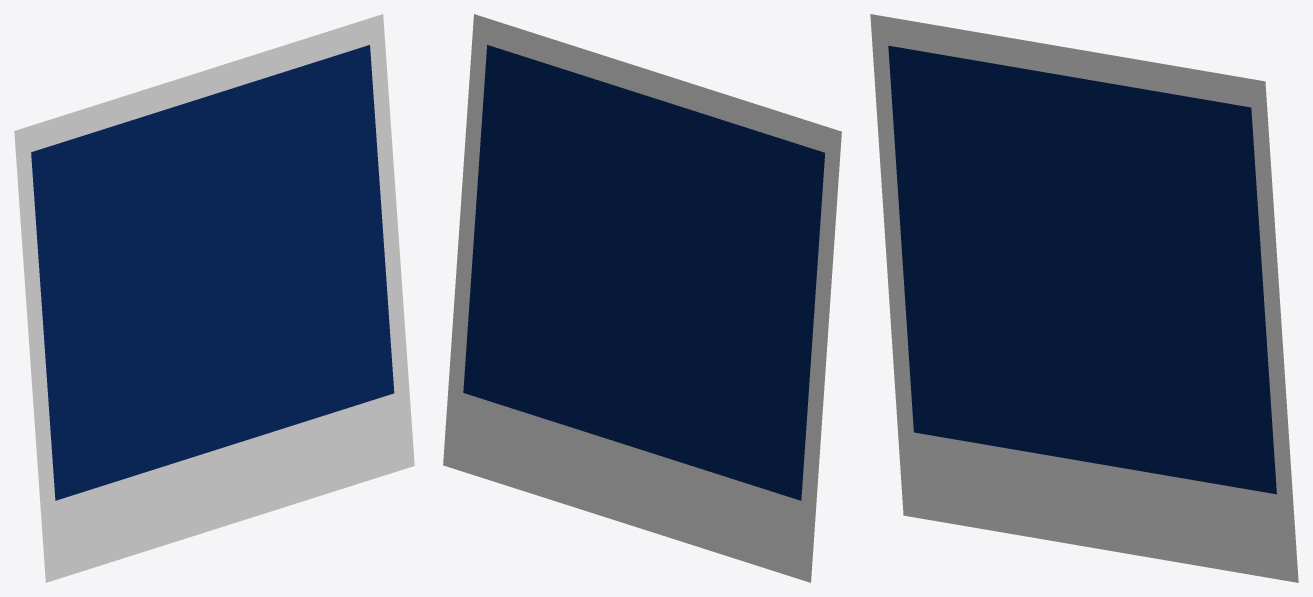
The model's file is Polaroid.fbx.
3 renders of one model, left to right at view 1: azimuth 30°, elevation 25°; view 2: azimuth 150°, elevation 25°; view 3: azimuth 330°, elevation 25°, orthographic. The views are drawn at different scales.
Visible parts, largest first — view 1: Photo_polaroid_003; view 2: Photo_polaroid_003; view 3: Photo_polaroid_003.
Part boxes in pixels (x1,y1,x2,y2): Photo_polaroid_003: (14,14,414,582); Photo_polaroid_003: (443,14,841,582); Photo_polaroid_003: (870,14,1298,582).
Bounding box in the file's own units: 0.9344 × 1.09 × 0.00297.
